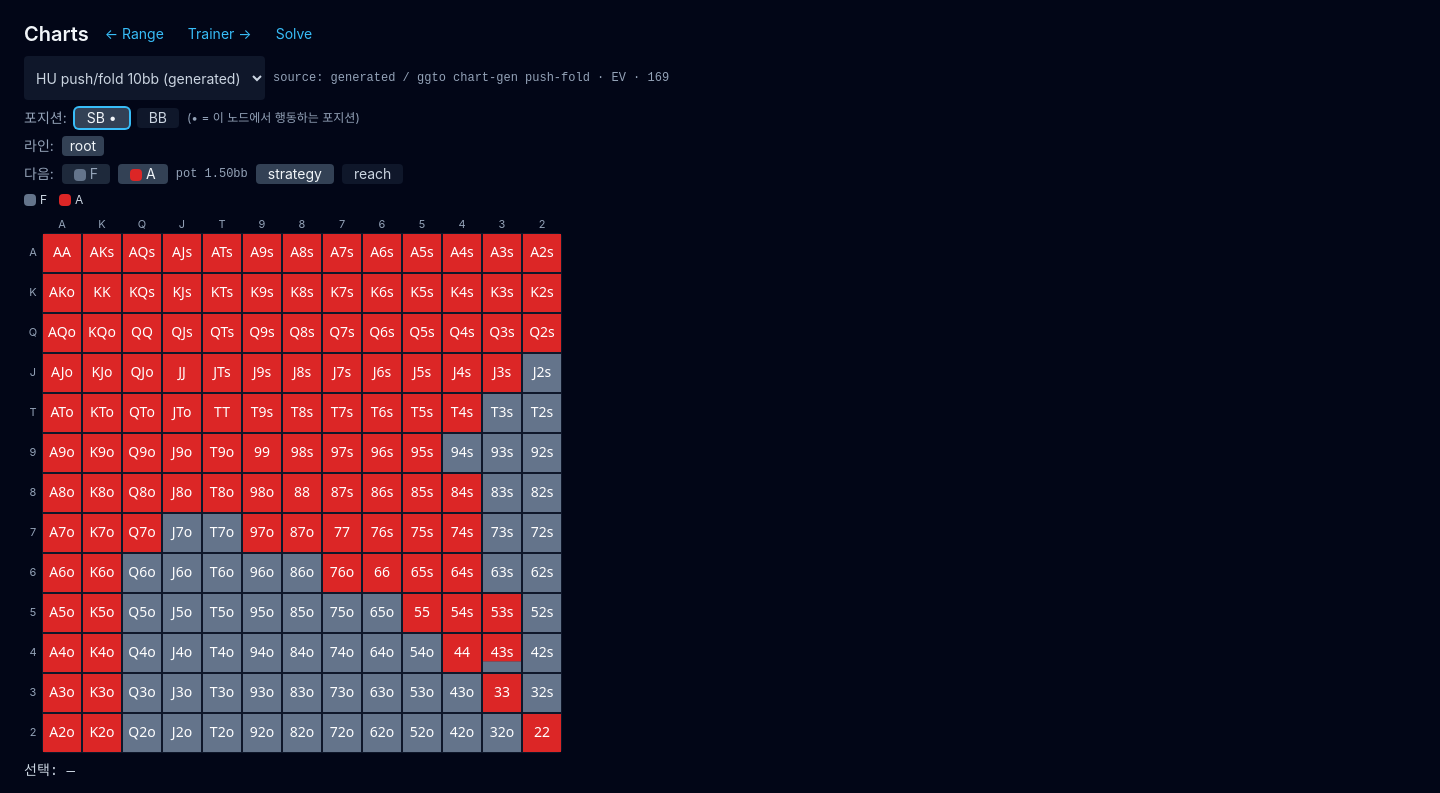
9 차트 뷰어 › 9 셀 클릭 → 우측 패널에 클래스 액션표·콤보표·169 안내문
Click the table: click(302, 492) 42,232 -> 562,752
(page scrolled)
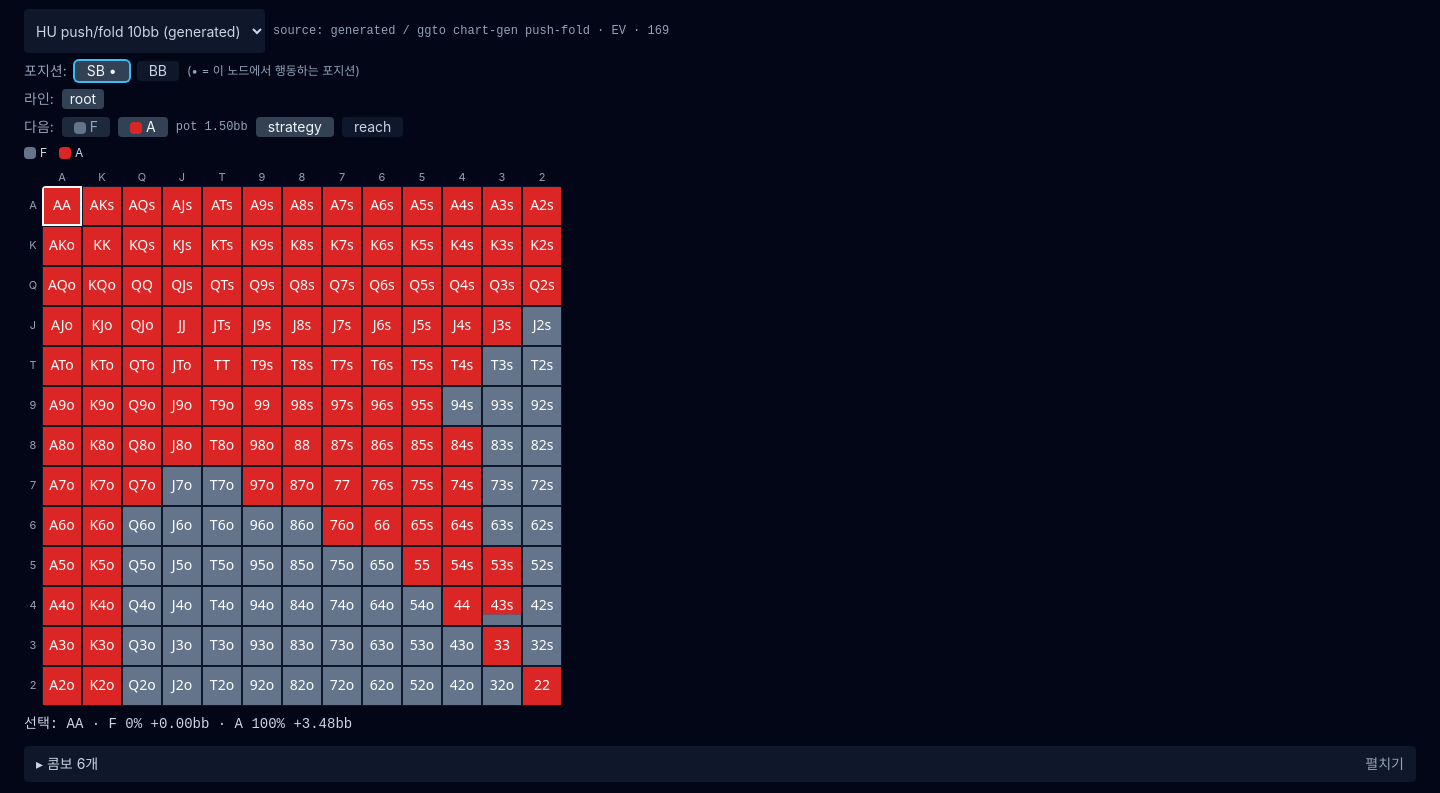
Click the button with test id "combo-toggle": click(71, 763) 24,746 -> 1416,782
(page scrolled)
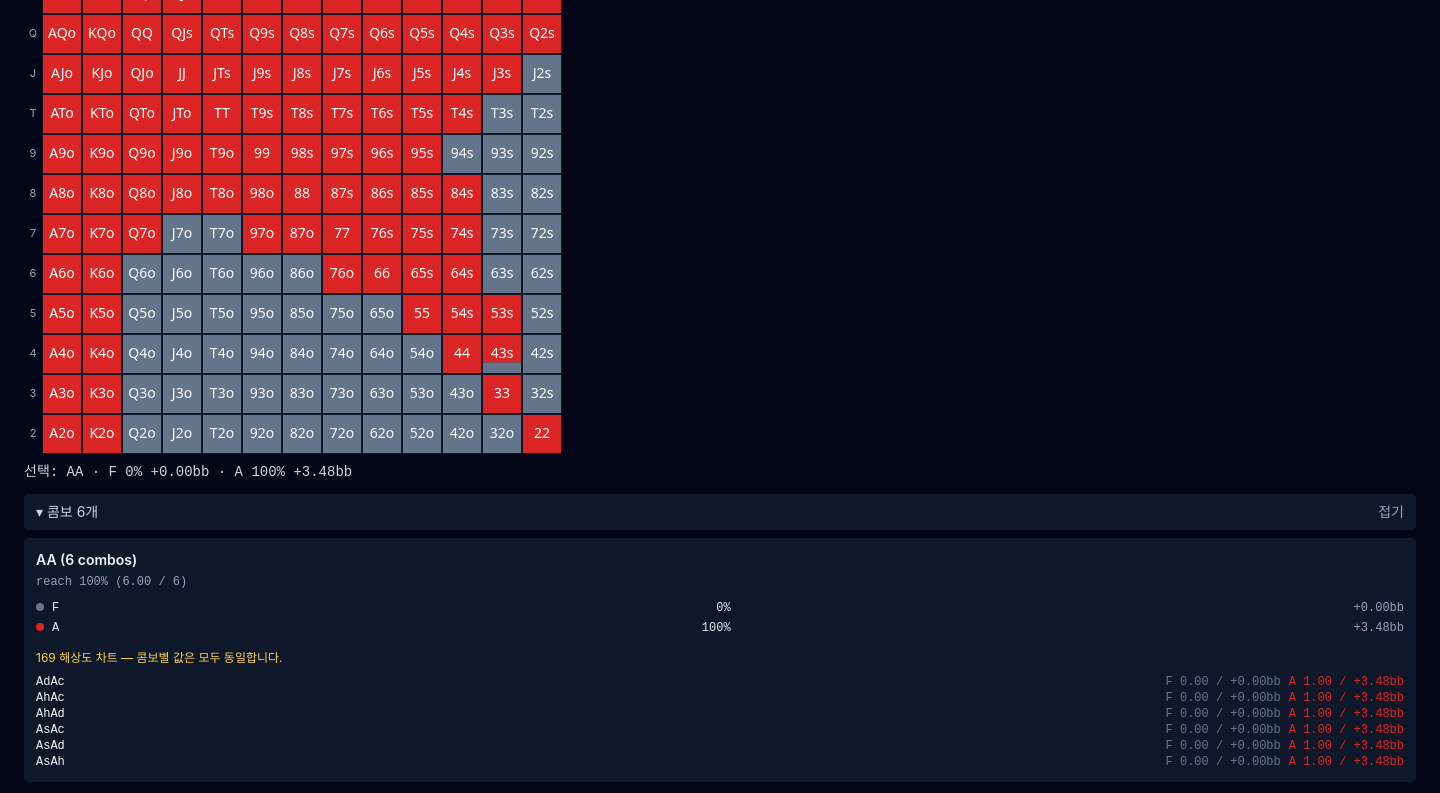
Now the element with test id "chart-combo-panel" shows "AA (6 combos)", box 36,550 -> 1404,770
Now the row with test id "chart-action-A" shows "100%", box 702,620 -> 731,634
Now the text "169 해상도 차트 — 콤보별 값은 모두 동일합니다." is shown, box 36,650 -> 282,664
